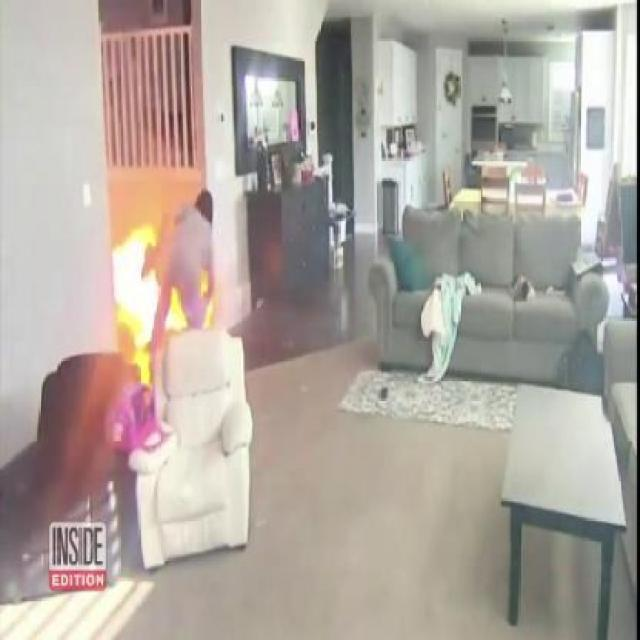fire: (112, 189, 226, 351)
